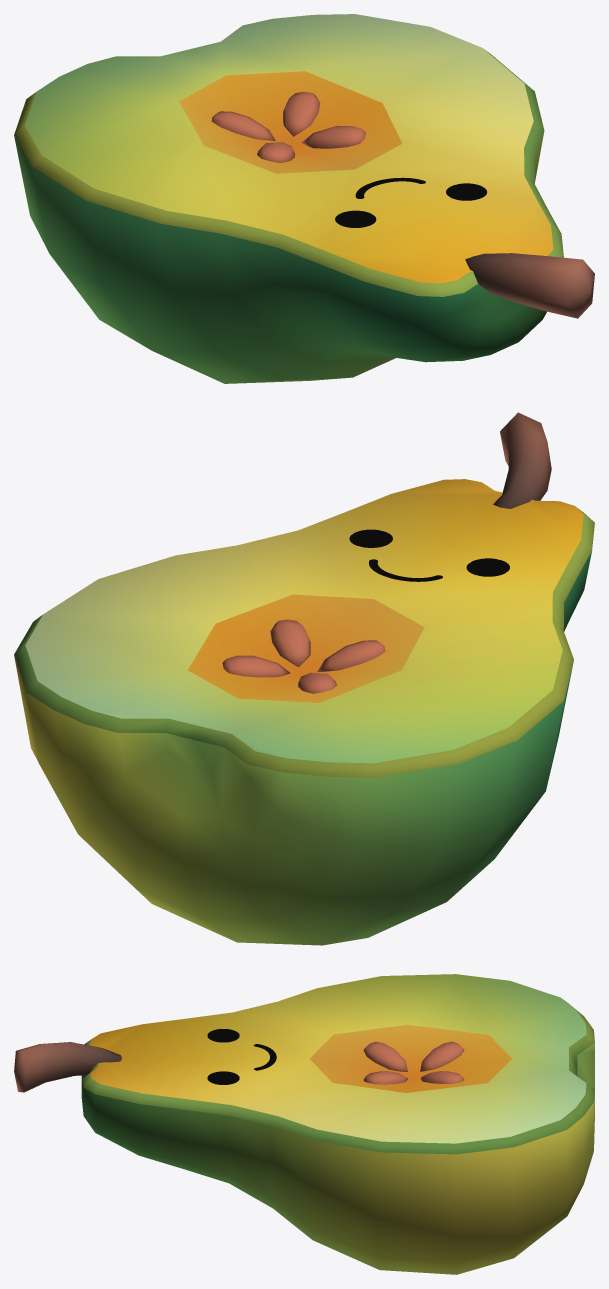
The model's file is pear_half_smile.fbx.
The picture shows the model from 3 angles, top to bottom: view 1: azimuth 30°, elevation 25°; view 2: azimuth 150°, elevation 25°; view 3: azimuth 270°, elevation 25°; orthographic projection. The views are drawn at different scales.
Visible parts, largest first — view 1: pear_half_smile; view 2: pear_half_smile; view 3: pear_half_smile.
Part boxes in pixels (left/top/right/bottom): pear_half_smile: left=14, top=14, right=594, bottom=383; pear_half_smile: left=14, top=412, right=594, bottom=945; pear_half_smile: left=14, top=974, right=594, bottom=1274.
Size of the model in its own units: 43.97 by 61.12 by 25.77.
Materials: 2 (2 with a texture image).
